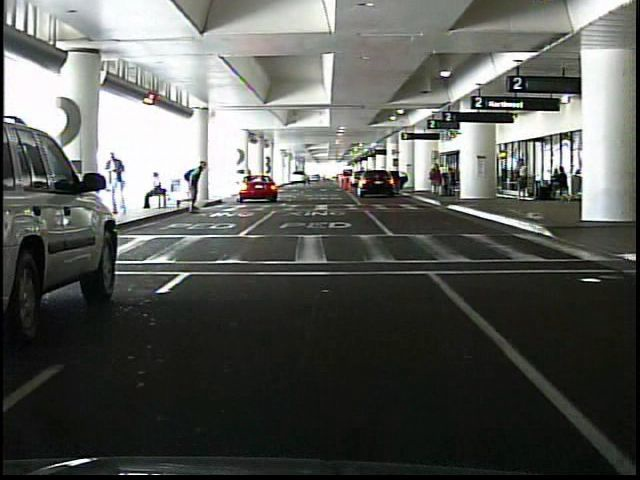person: (178, 159, 213, 213), (109, 152, 129, 216), (142, 171, 166, 211), (428, 163, 445, 198), (518, 157, 531, 200), (451, 164, 452, 196)
